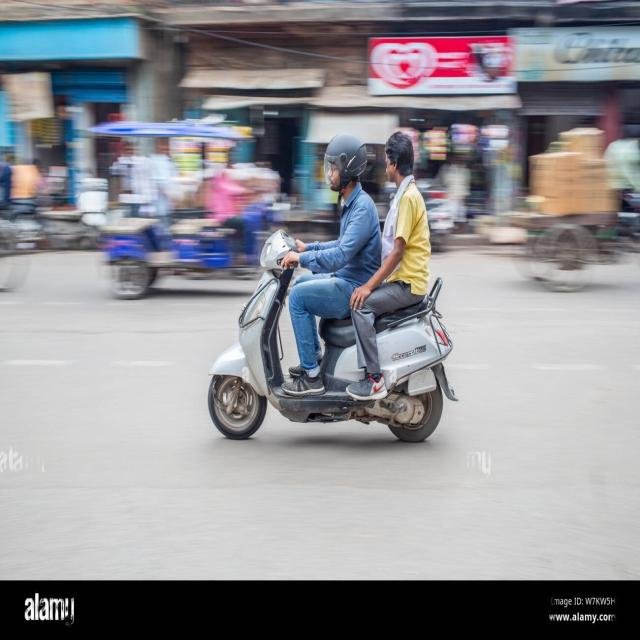motorcycle: (208, 131, 458, 441)
